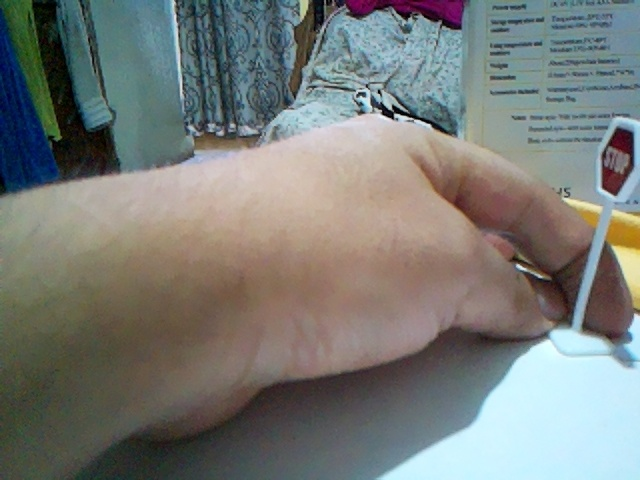stop_sign: (597, 117, 639, 200)
